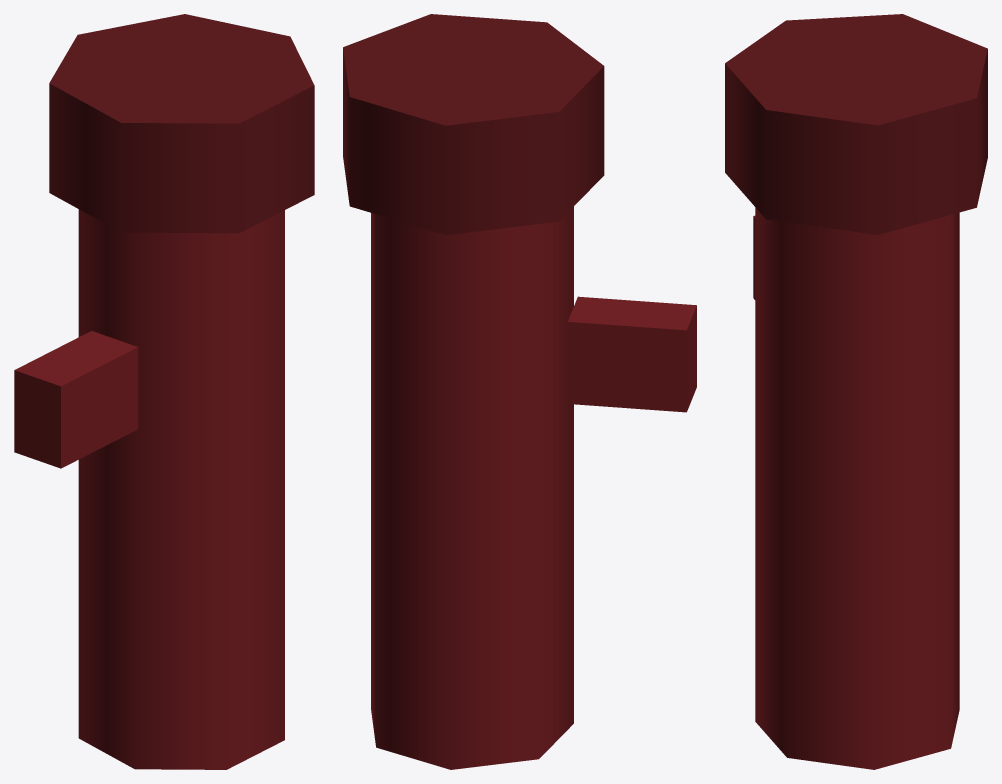
Rendered from cell-180_-810.glb.
The picture shows the model from 3 angles, left to right: view 1: azimuth 30°, elevation 25°; view 2: azimuth 150°, elevation 25°; view 3: azimuth 270°, elevation 25°; orthographic projection.
Visible parts, largest first — view 1: cell-180_-810; view 2: cell-180_-810; view 3: cell-180_-810.
Part boxes in pixels (x1,y1,x2,y2): cell-180_-810: [14, 14, 314, 769]; cell-180_-810: [343, 14, 696, 769]; cell-180_-810: [725, 14, 987, 769].
Size of the model in its own units: 0.2368 by 0.48 by 0.174.
